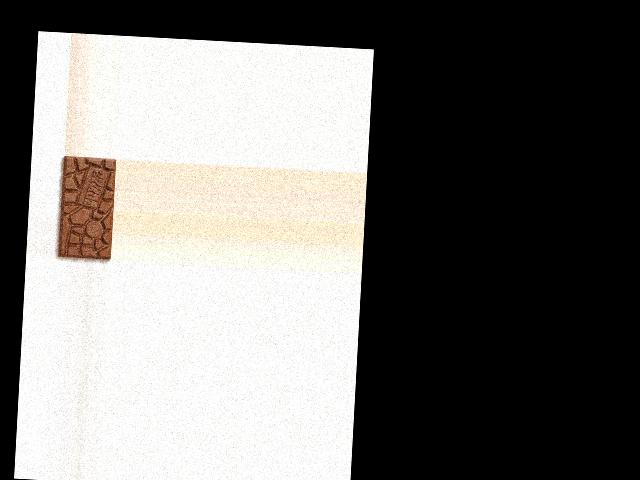chocolate: (55, 155, 115, 260)
